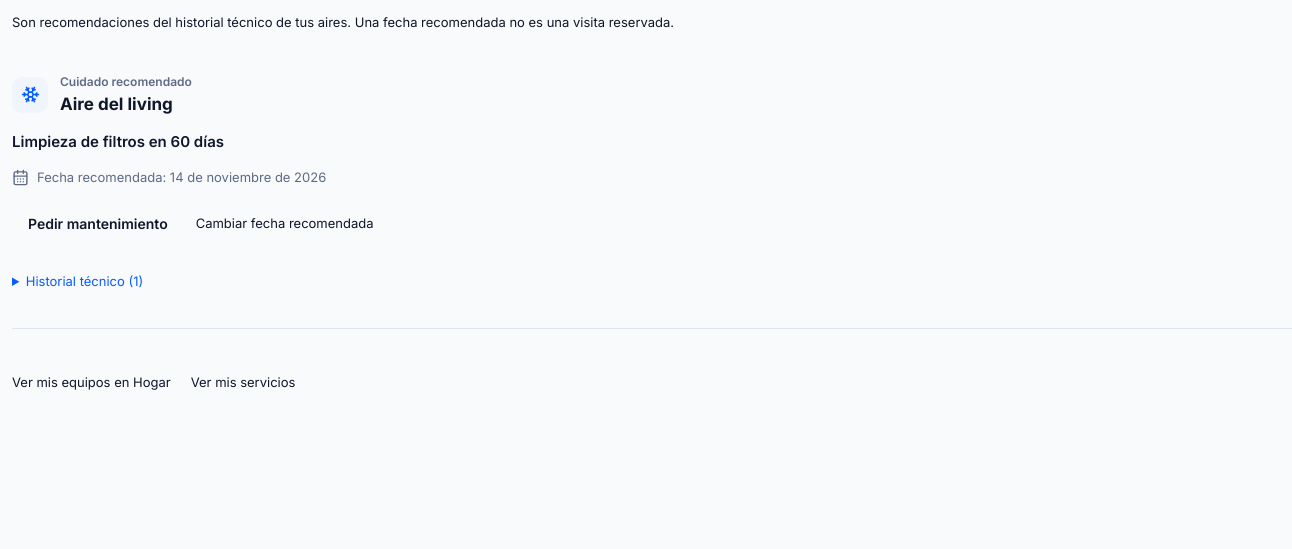
Test: customer maintenance › keeps technical history readable and linked to its existing service
This screenshot has width=1292, height=549.
Click the heading "Historial técnico (1)".
click(85, 281)  # box [26,273,143,289]
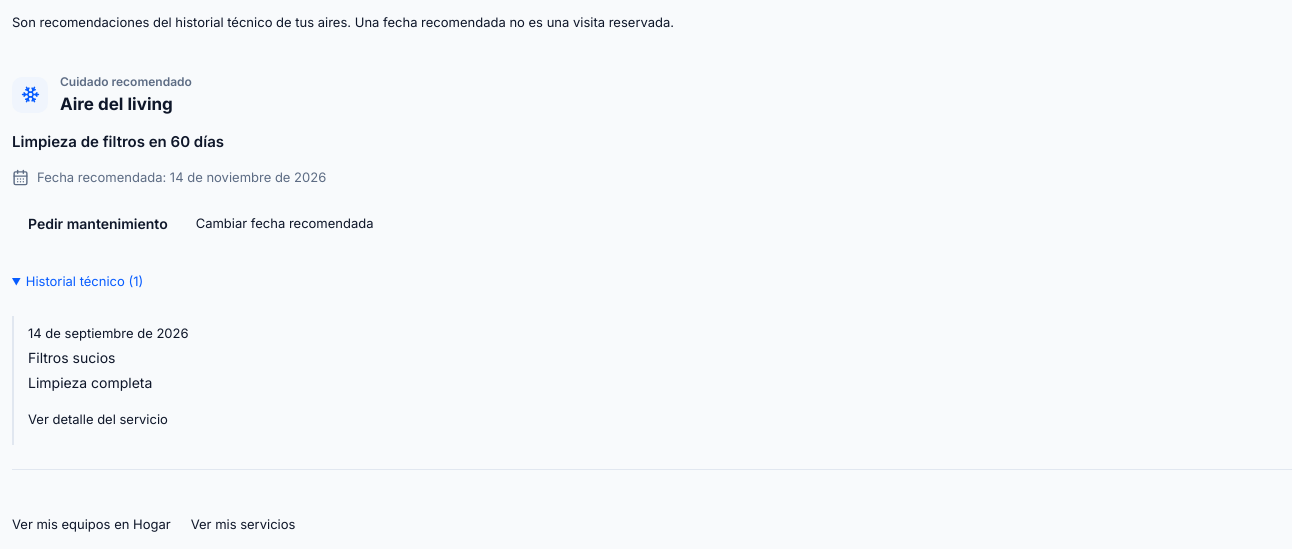
Result: the text "Filtros sucios" is shown at [28,349,115,366]
Result: the text "Limpieza completa" is shown at [28,374,152,391]
